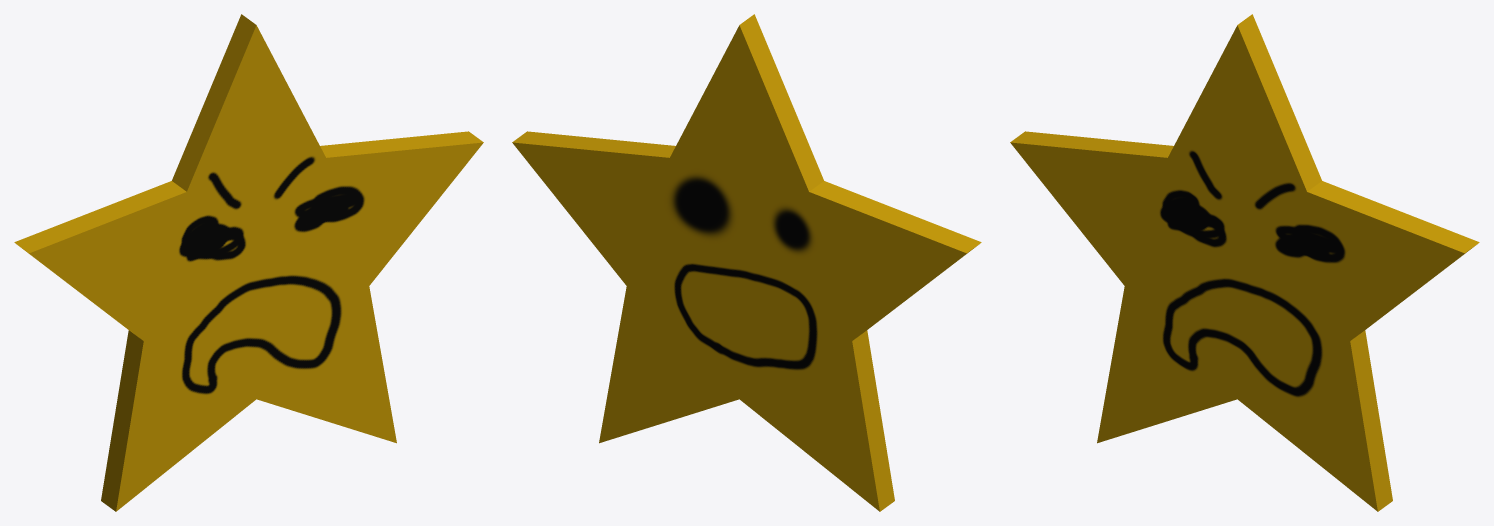
Rendered from star.glb.
3 views of the same model, side by side, from view 1: azimuth 30°, elevation 25°; view 2: azimuth 150°, elevation 25°; view 3: azimuth 330°, elevation 25° (orthographic).
Visible parts, largest first — view 1: Circle; view 2: Circle; view 3: Circle.
Part boxes in pixels (<box>): Circle: <box>14,14,483,511</box>; Circle: <box>512,14,981,511</box>; Circle: <box>1010,14,1479,511</box>.
Bounding box in the file's own units: 3.84 × 3.65 × 0.2208.
1 material, 1 textured.
